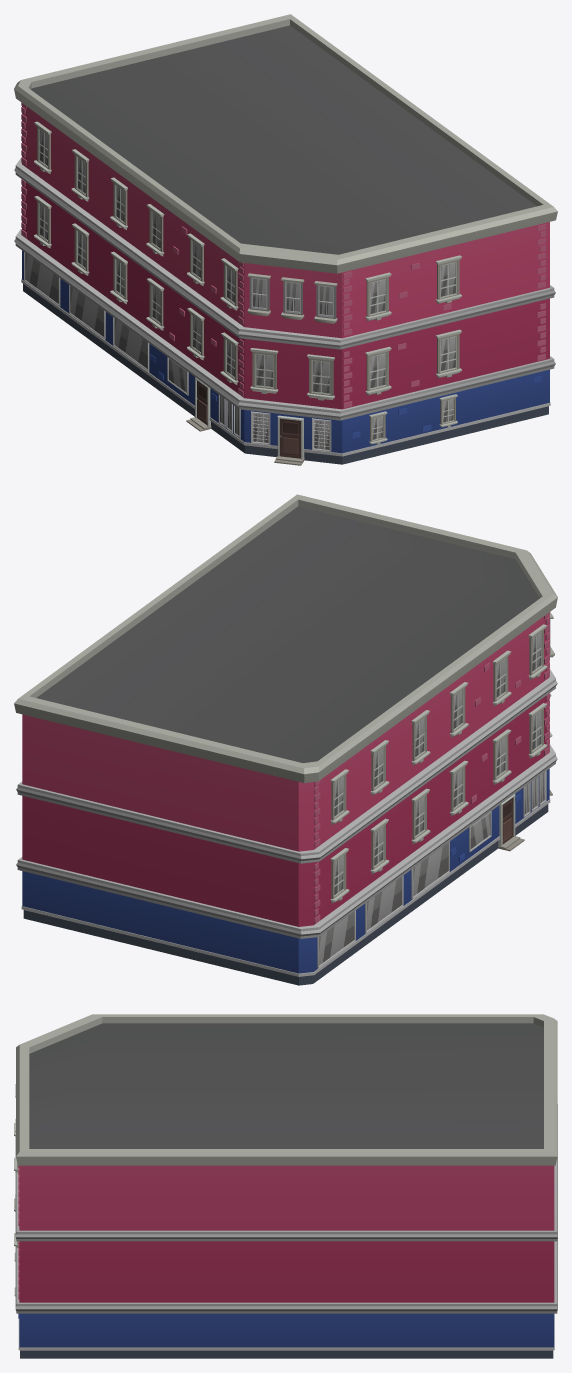
Rendered from Building_25_10_C.fbx.
3 renders of one model, top to bottom at view 1: azimuth 30°, elevation 25°; view 2: azimuth 150°, elevation 25°; view 3: azimuth 270°, elevation 25°, orthographic. The views are drawn at different scales.
Parts seen in each view (by area): view 1: Building_25_10_C; view 2: Building_25_10_C; view 3: Building_25_10_C.
Part boxes in pixels (x1,y1,x2,y2): Building_25_10_C: [14, 14, 557, 465]; Building_25_10_C: [14, 494, 557, 985]; Building_25_10_C: [14, 1014, 557, 1358].
Bounding box in the file's own units: 1683 × 1159 × 2729.
